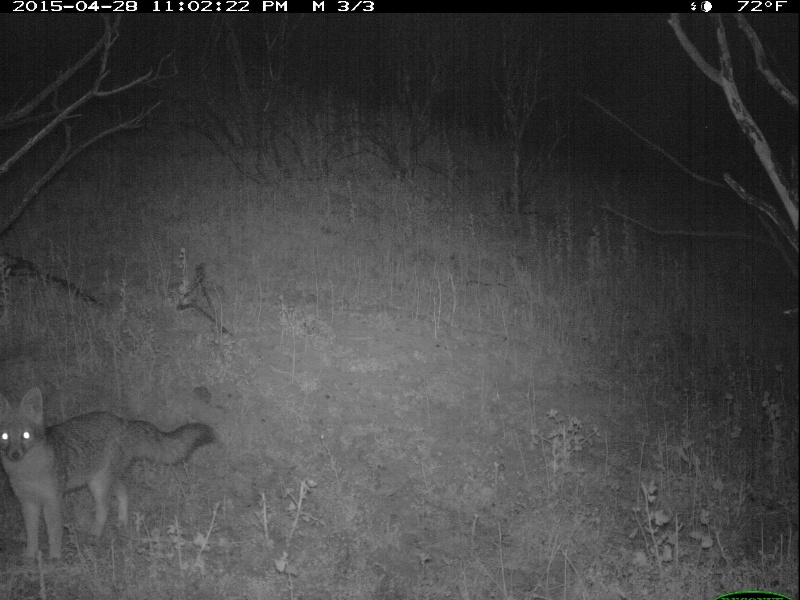fox: (1, 389, 216, 562)
